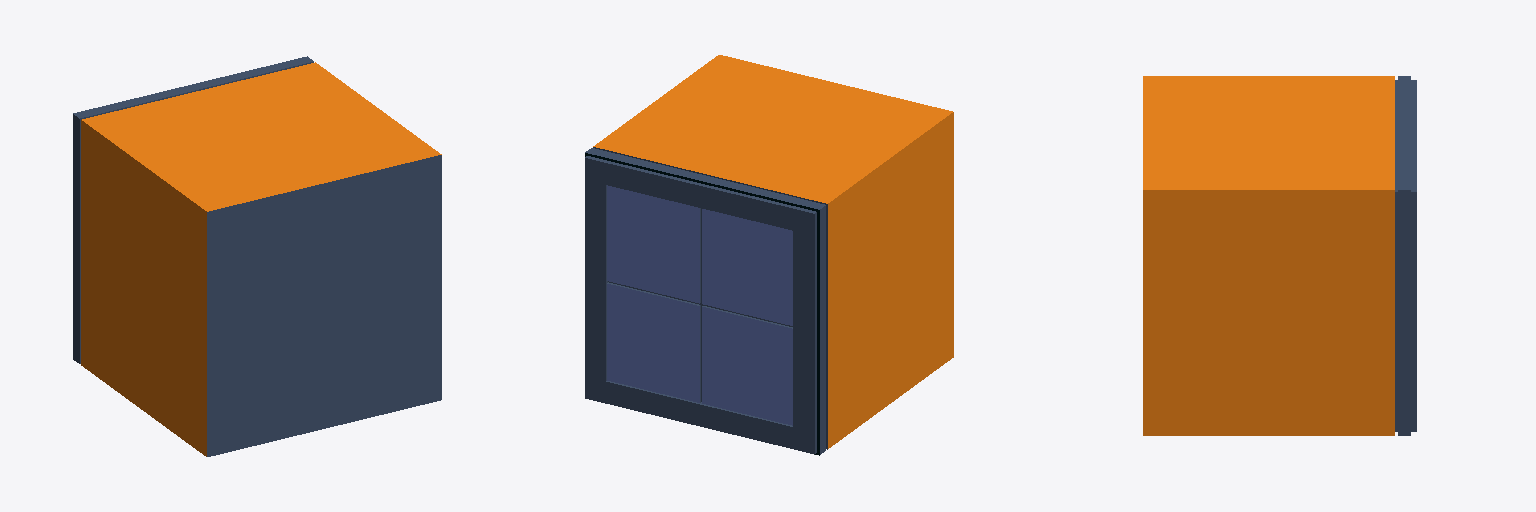
Rendered from 高台可用.obj.
The picture shows the model from 3 angles: view 1: azimuth 30°, elevation 25°; view 2: azimuth 150°, elevation 25°; view 3: azimuth 270°, elevation 25°; orthographic projection.
Parts seen in each view (by area): view 1: 高台可用; view 2: 高台可用; view 3: 高台可用.
Part boxes in pixels (left/top/right/bottom): 高台可用: left=73, top=56, right=441, bottom=456; 高台可用: left=585, top=55, right=953, bottom=455; 高台可用: left=1143, top=76, right=1416, bottom=435.
Bounding box in the file's own units: 1 × 1 × 1.01.